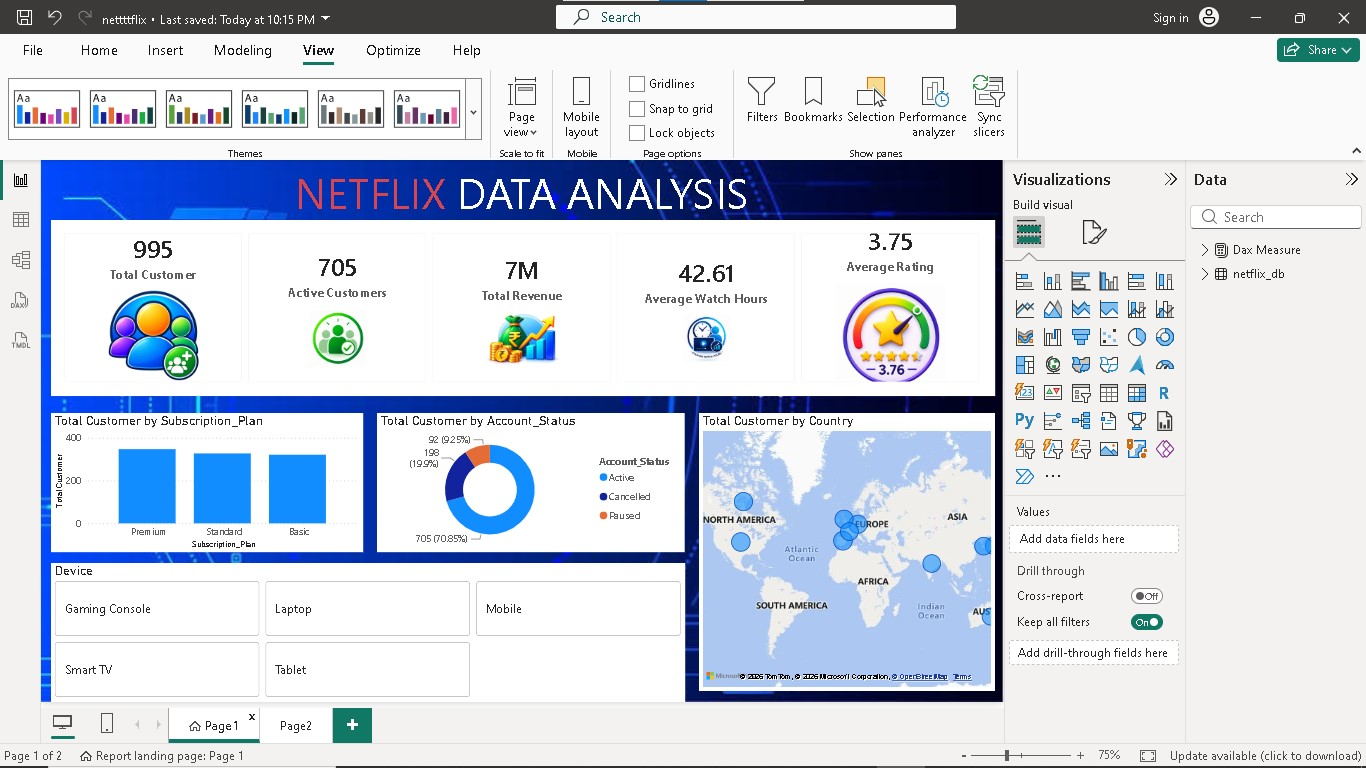

What the dashboard file says about the page in this screenshot:
{"tool":"powerbi","page":{"name":"Page 1","canvas":[1280,720],"ordinal":0},"visuals":[{"type":"textbox","box":[0,0,1280,92.4],"z":0},{"type":"cardVisual","fields":{"Data":["Dax Measure.Total Customer","Dax Measure.Active Customers","Dax Measure.Total Revenue","Dax Measure.Average Watch Hours","Dax Measure.Average Rating"]},"box":[12.7,79.7,1254.7,233.6],"z":1000},{"type":"clusteredColumnChart","fields":{"Category":["netflix_db.Subscription_Plan"],"Y":["Dax Measure.Total Customer"]},"box":[12.7,336.7,414.6,184.7],"z":2000},{"type":"map","fields":{"Category":["netflix_db.Country"],"Size":["Dax Measure.Total Customer"]},"box":[874.5,336.7,392.9,369.3],"z":3000},{"type":"donutChart","fields":{"Category":["netflix_db.Account_Status"],"Y":["Dax Measure.Total Customer"]},"box":[447.2,336.7,409.2,184.7],"z":4000},{"type":"advancedSlicerVisual","fields":{"Values":["netflix_db.Device"]},"box":[13.4,535.9,843.3,184.8],"z":5000}]}

Visuals, with their boxes on the page's 1280x720 design canvas (x1, y1, x2, y2). These are canvas units, not pixel positions in the 1366x768 screenshot, which may show the page scaled, cropped or inside an application window:
textbox: [x1=0, y1=0, x2=1280, y2=92]
cardVisual - Dax Measure.Total Customer x Dax Measure.Active Customers: [x1=13, y1=80, x2=1267, y2=313]
clusteredColumnChart - netflix_db.Subscription_Plan x Dax Measure.Total Customer: [x1=13, y1=337, x2=427, y2=521]
map - netflix_db.Country x Dax Measure.Total Customer: [x1=874, y1=337, x2=1267, y2=706]
donutChart - netflix_db.Account_Status x Dax Measure.Total Customer: [x1=447, y1=337, x2=856, y2=521]
advancedSlicerVisual - netflix_db.Device: [x1=13, y1=536, x2=857, y2=721]
